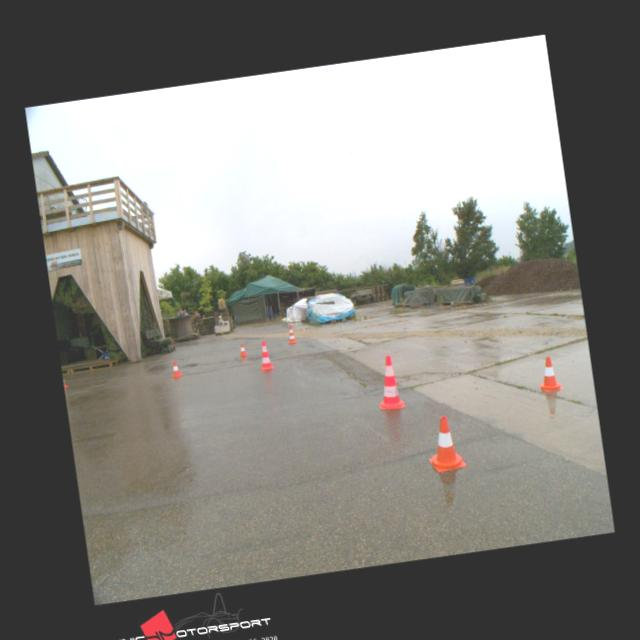large_orange_cone: (372, 354, 404, 410), (256, 340, 275, 370), (286, 324, 297, 344)
orange_cone: (424, 414, 466, 472), (536, 355, 562, 391), (170, 360, 182, 378), (238, 343, 248, 357)
